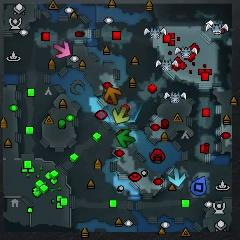p1: (191, 176, 208, 195)
x1: (54, 41, 72, 59)
x2: (112, 105, 131, 125)
x3: (167, 168, 187, 187)
x4: (117, 129, 136, 149)
x5: (103, 85, 122, 105)
